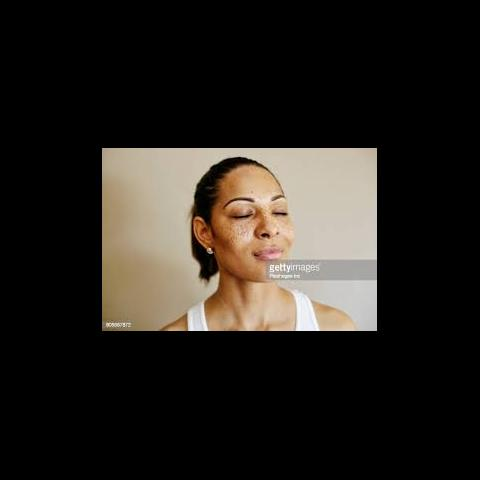closed: (218, 195, 290, 222)
